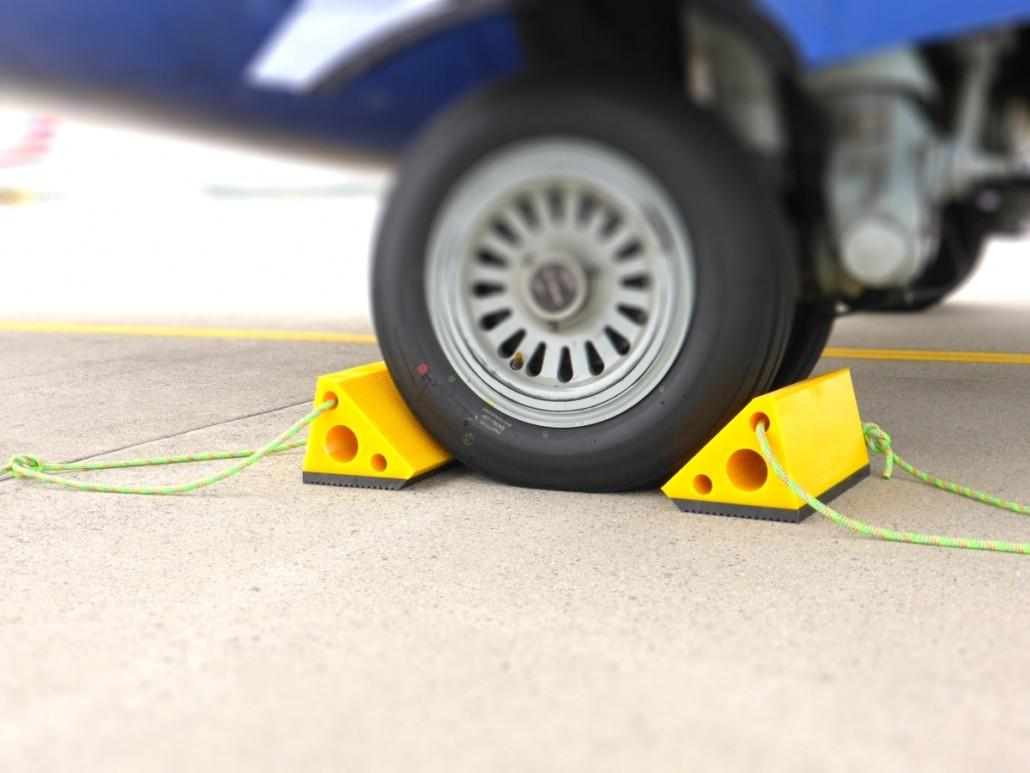chock: (658, 366, 869, 524), (298, 358, 459, 490)
wheel: (371, 75, 788, 491)
